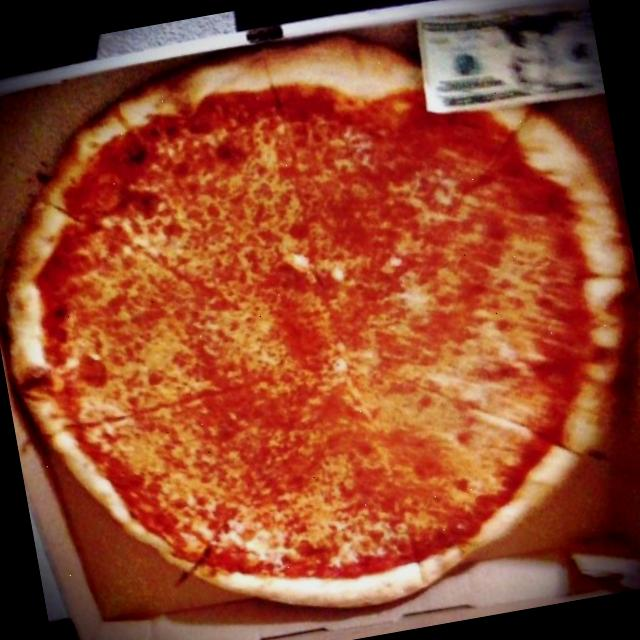pizza: (8, 37, 627, 606)
